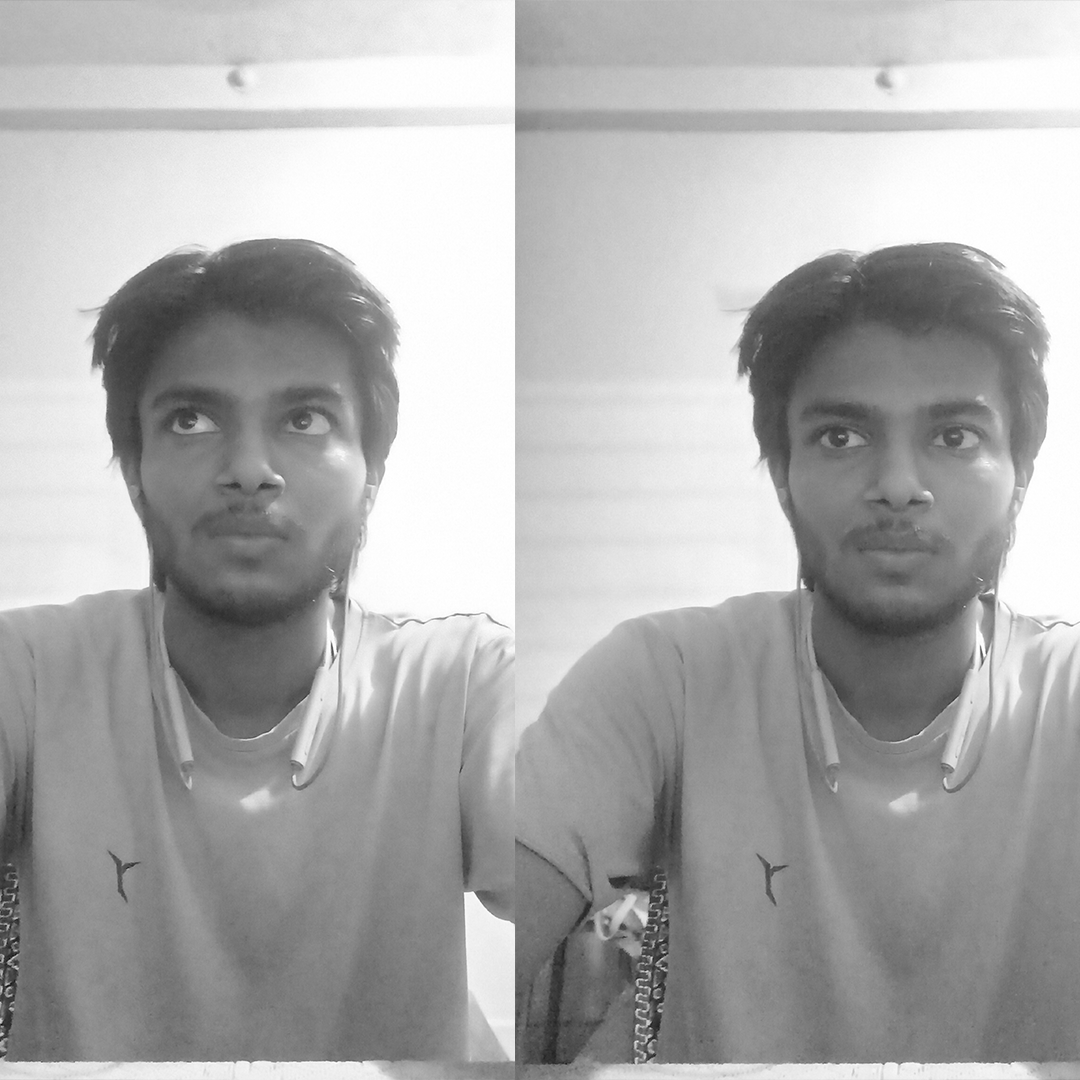Focused: (672, 211, 1073, 689)
distracted: (71, 199, 447, 729)
